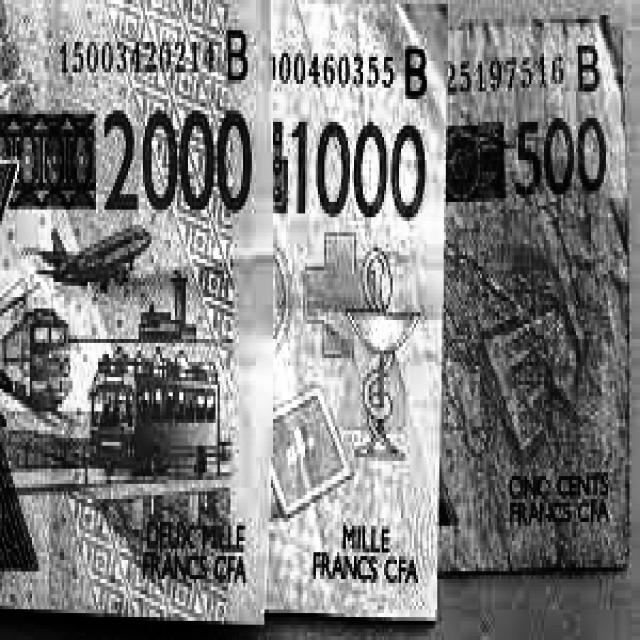niaar teemeer: (268, 6, 445, 621)
nient teemeer: (0, 4, 272, 623)
teemeer: (440, 18, 629, 571)
